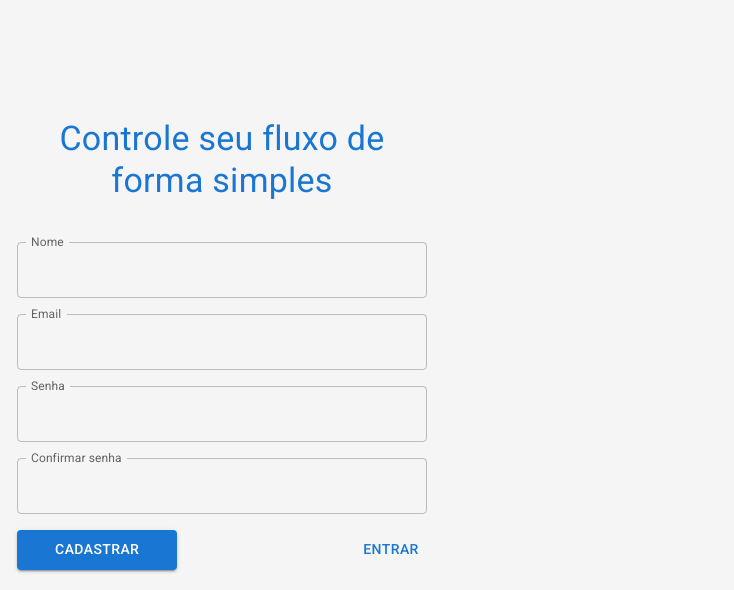
Register › should render error message when register
In the field labelled "Nome": (222, 270) [17, 242, 427, 298], type "admin"
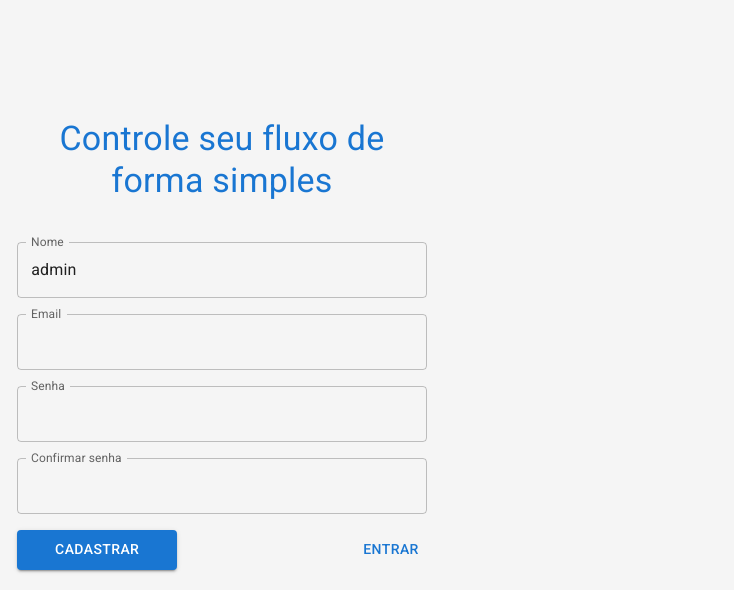
In the field labelled "Email": (222, 342) [17, 314, 427, 370], type "admin@admin.com"
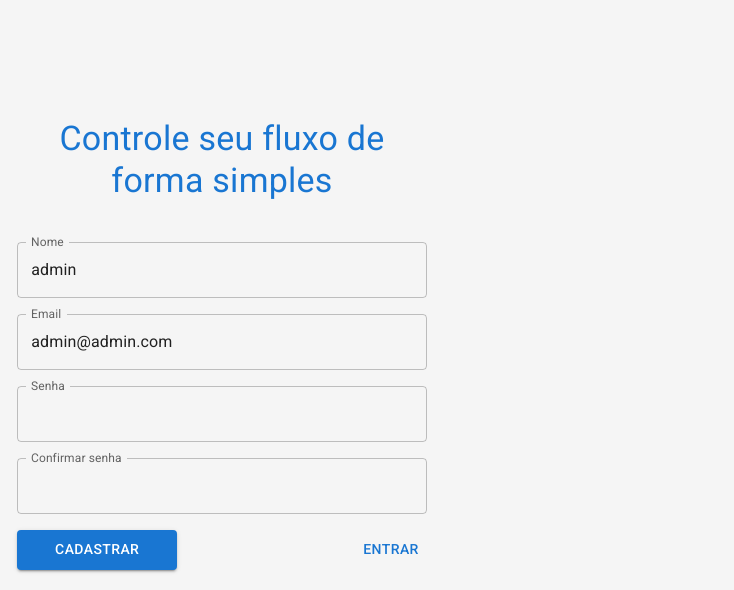
In the password field labelled "Senha": (222, 414) [17, 386, 427, 442], type "admin"
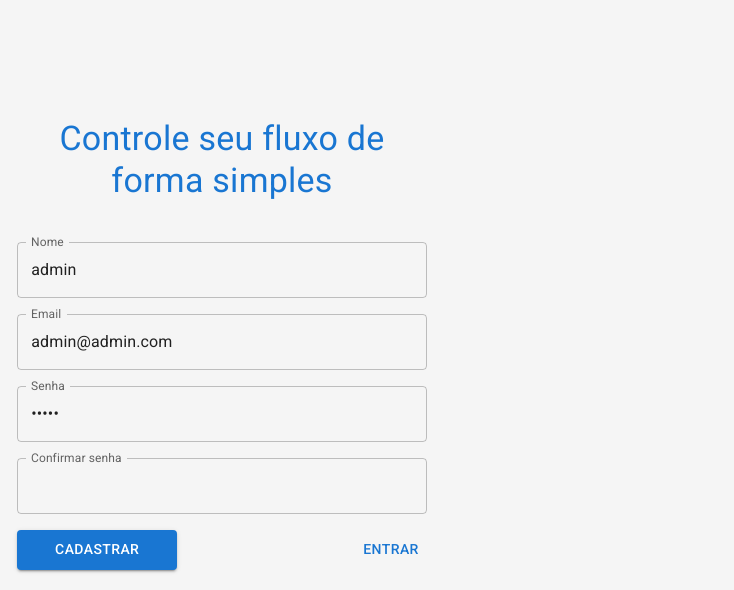
In the password field labelled "Confirmar senha": (222, 486) [17, 458, 427, 514], type "admin"
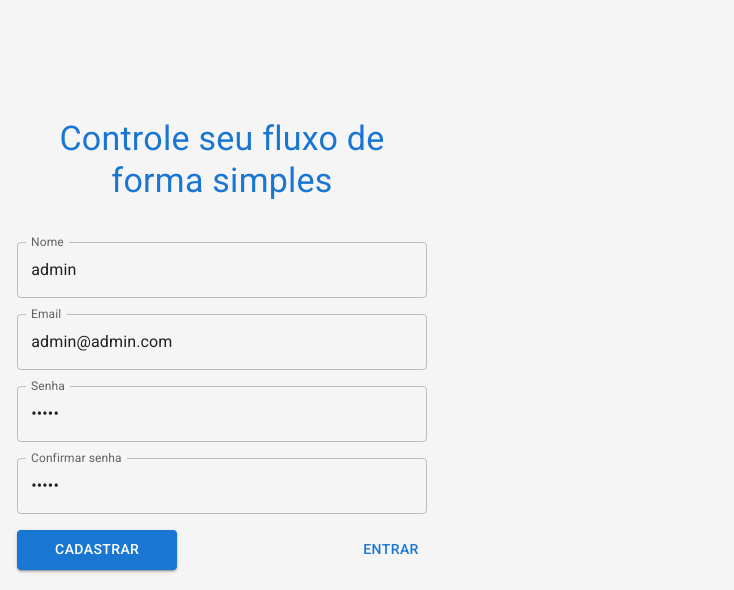
Click the button "Cadastrar": (97, 550) [17, 530, 177, 570]
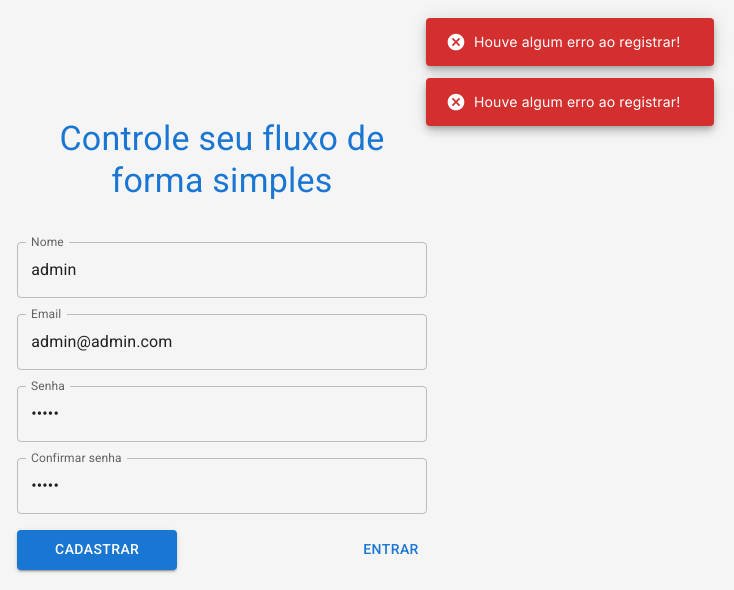
Expected: the 1st text "Houve algum erro ao registrar!" is shown, [446, 32, 680, 52]
